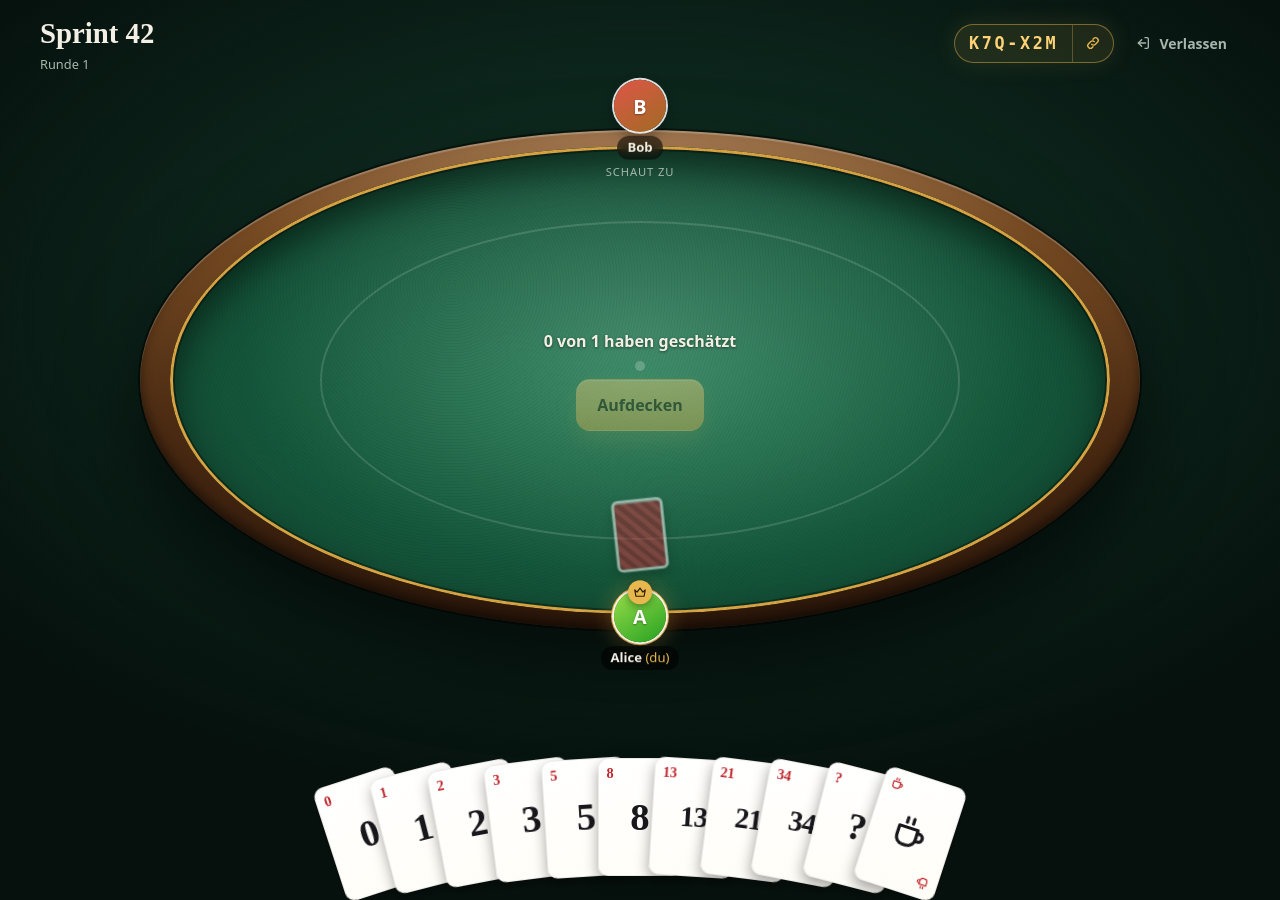
Scenario: Pokertisch › Zuschauen › bietet dem Admin für Zuschauer kein Aussetzen an – das entscheiden sie selbst
This screenshot has width=1280, height=900.
Click the button named "Aktionen für Bob" at point(640, 106), box [614, 80, 666, 132]
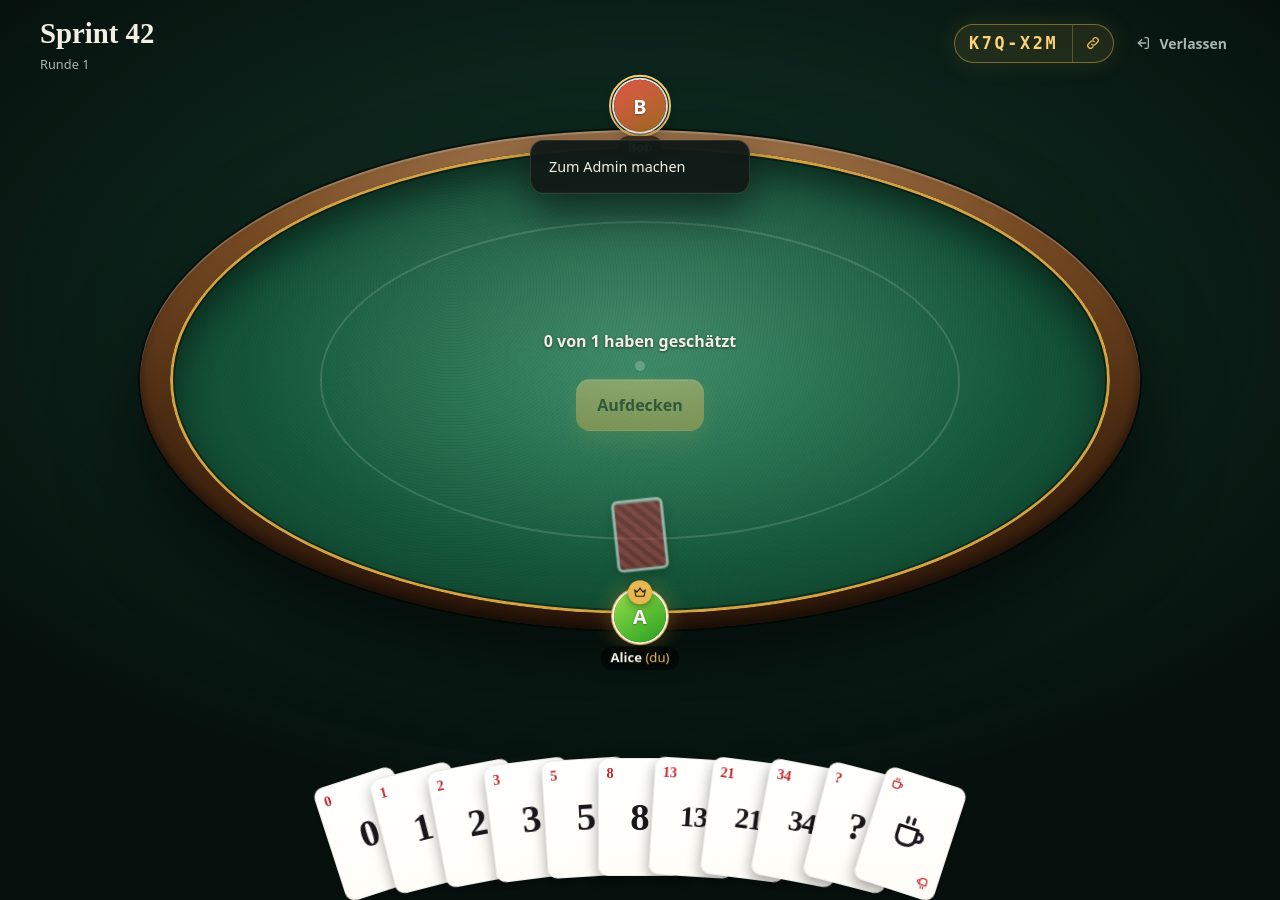
Expected: the menu item "Zum Admin machen" is shown, [537, 147, 743, 187]
